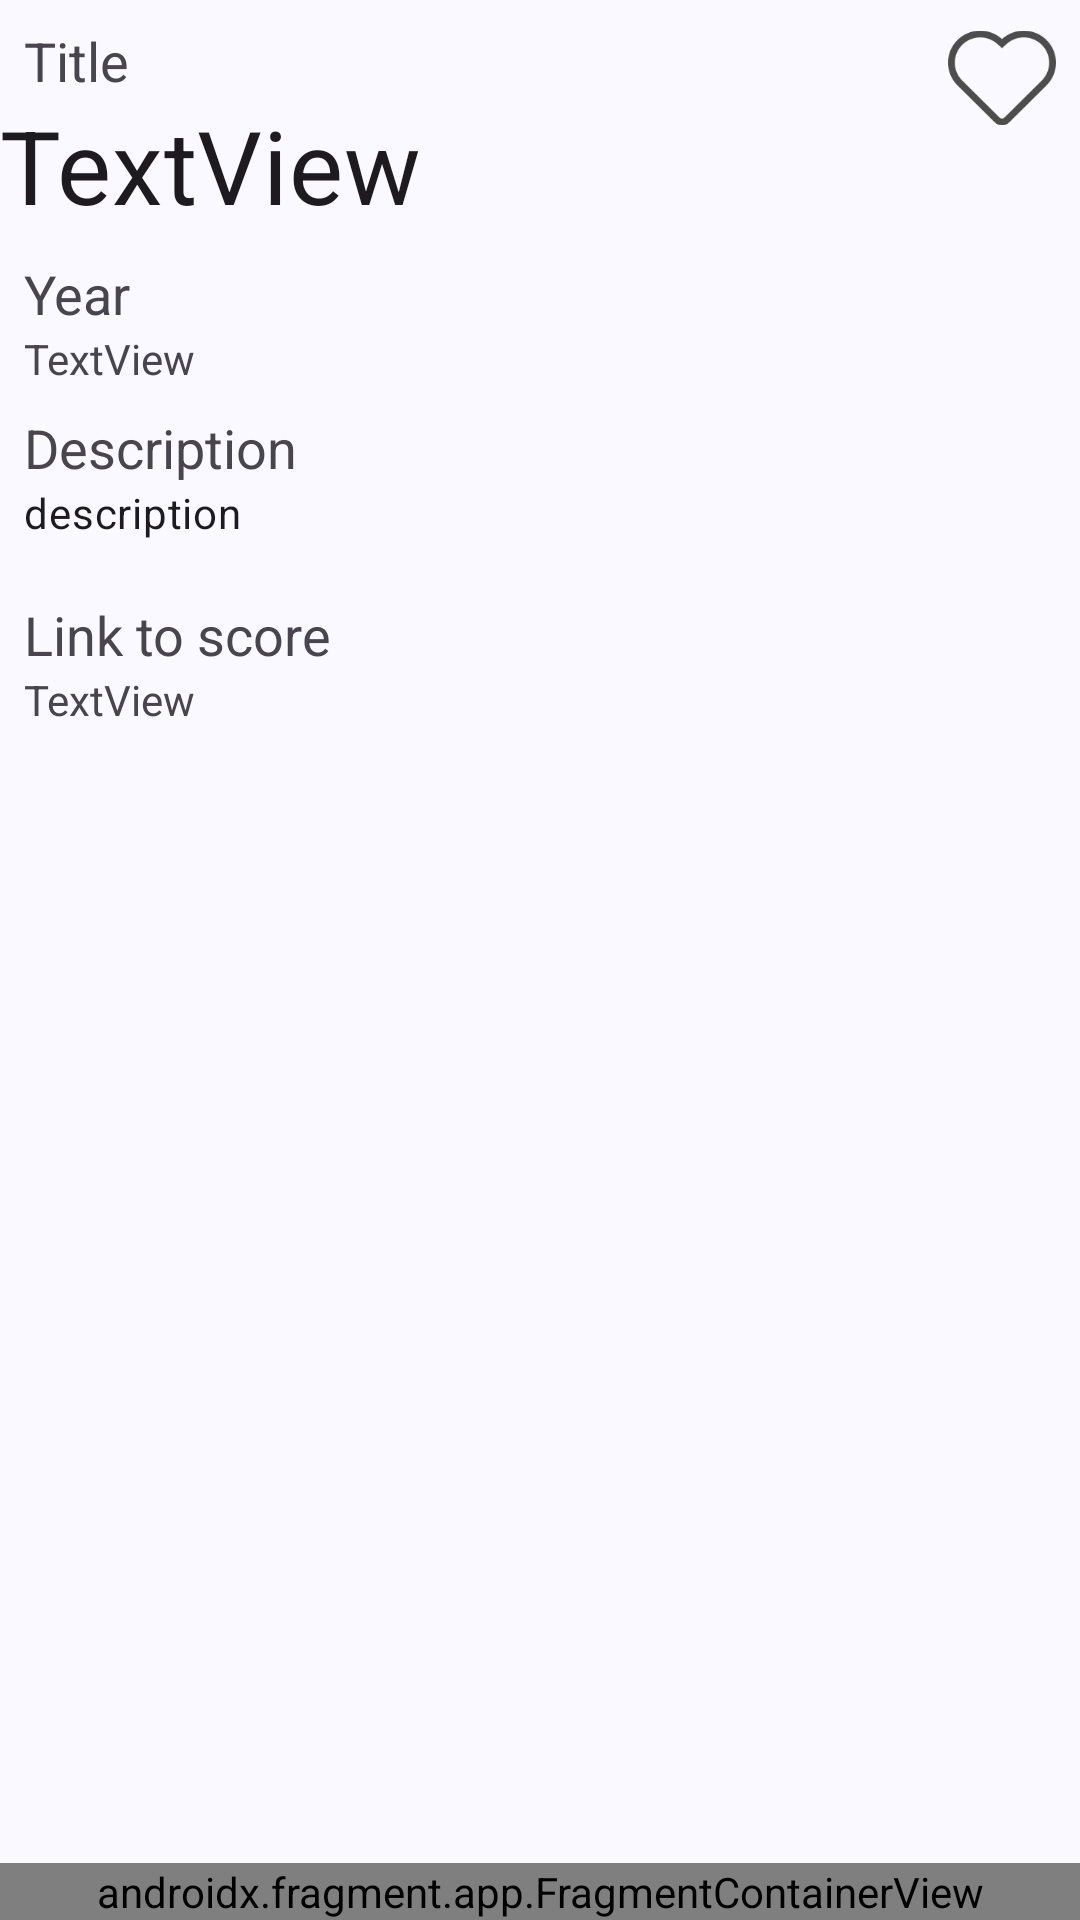

Locate icon controls on the screen. Image size 1080w x 1920h, boxes as (x1, y1, x2, y2).
heart border: (948, 31, 1056, 125)
